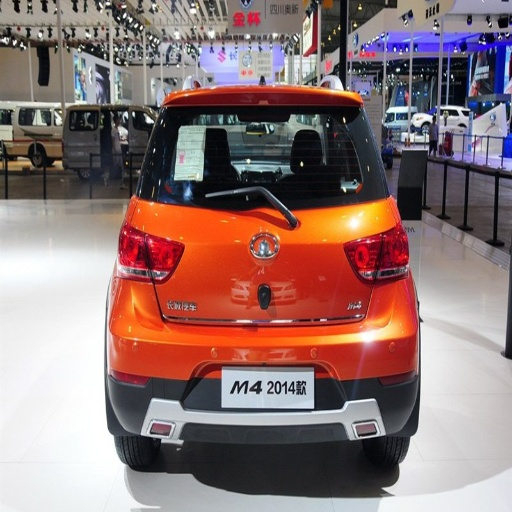back_bumper: (109, 269, 417, 442)
trunk: (133, 200, 396, 359)
